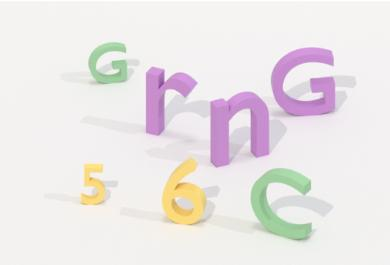5: (77, 159, 111, 211)
6: (156, 155, 211, 231)
C: (245, 164, 313, 243)
G: (268, 45, 339, 121), (85, 38, 131, 89)
n: (201, 88, 271, 169)
r: (140, 60, 200, 141)
